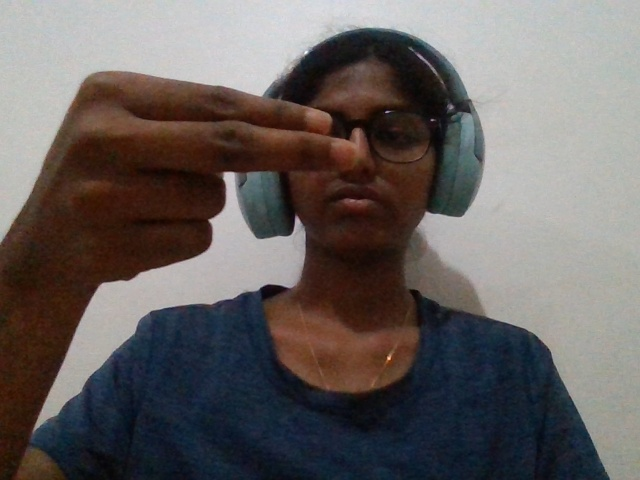H: (23, 29, 363, 332)
